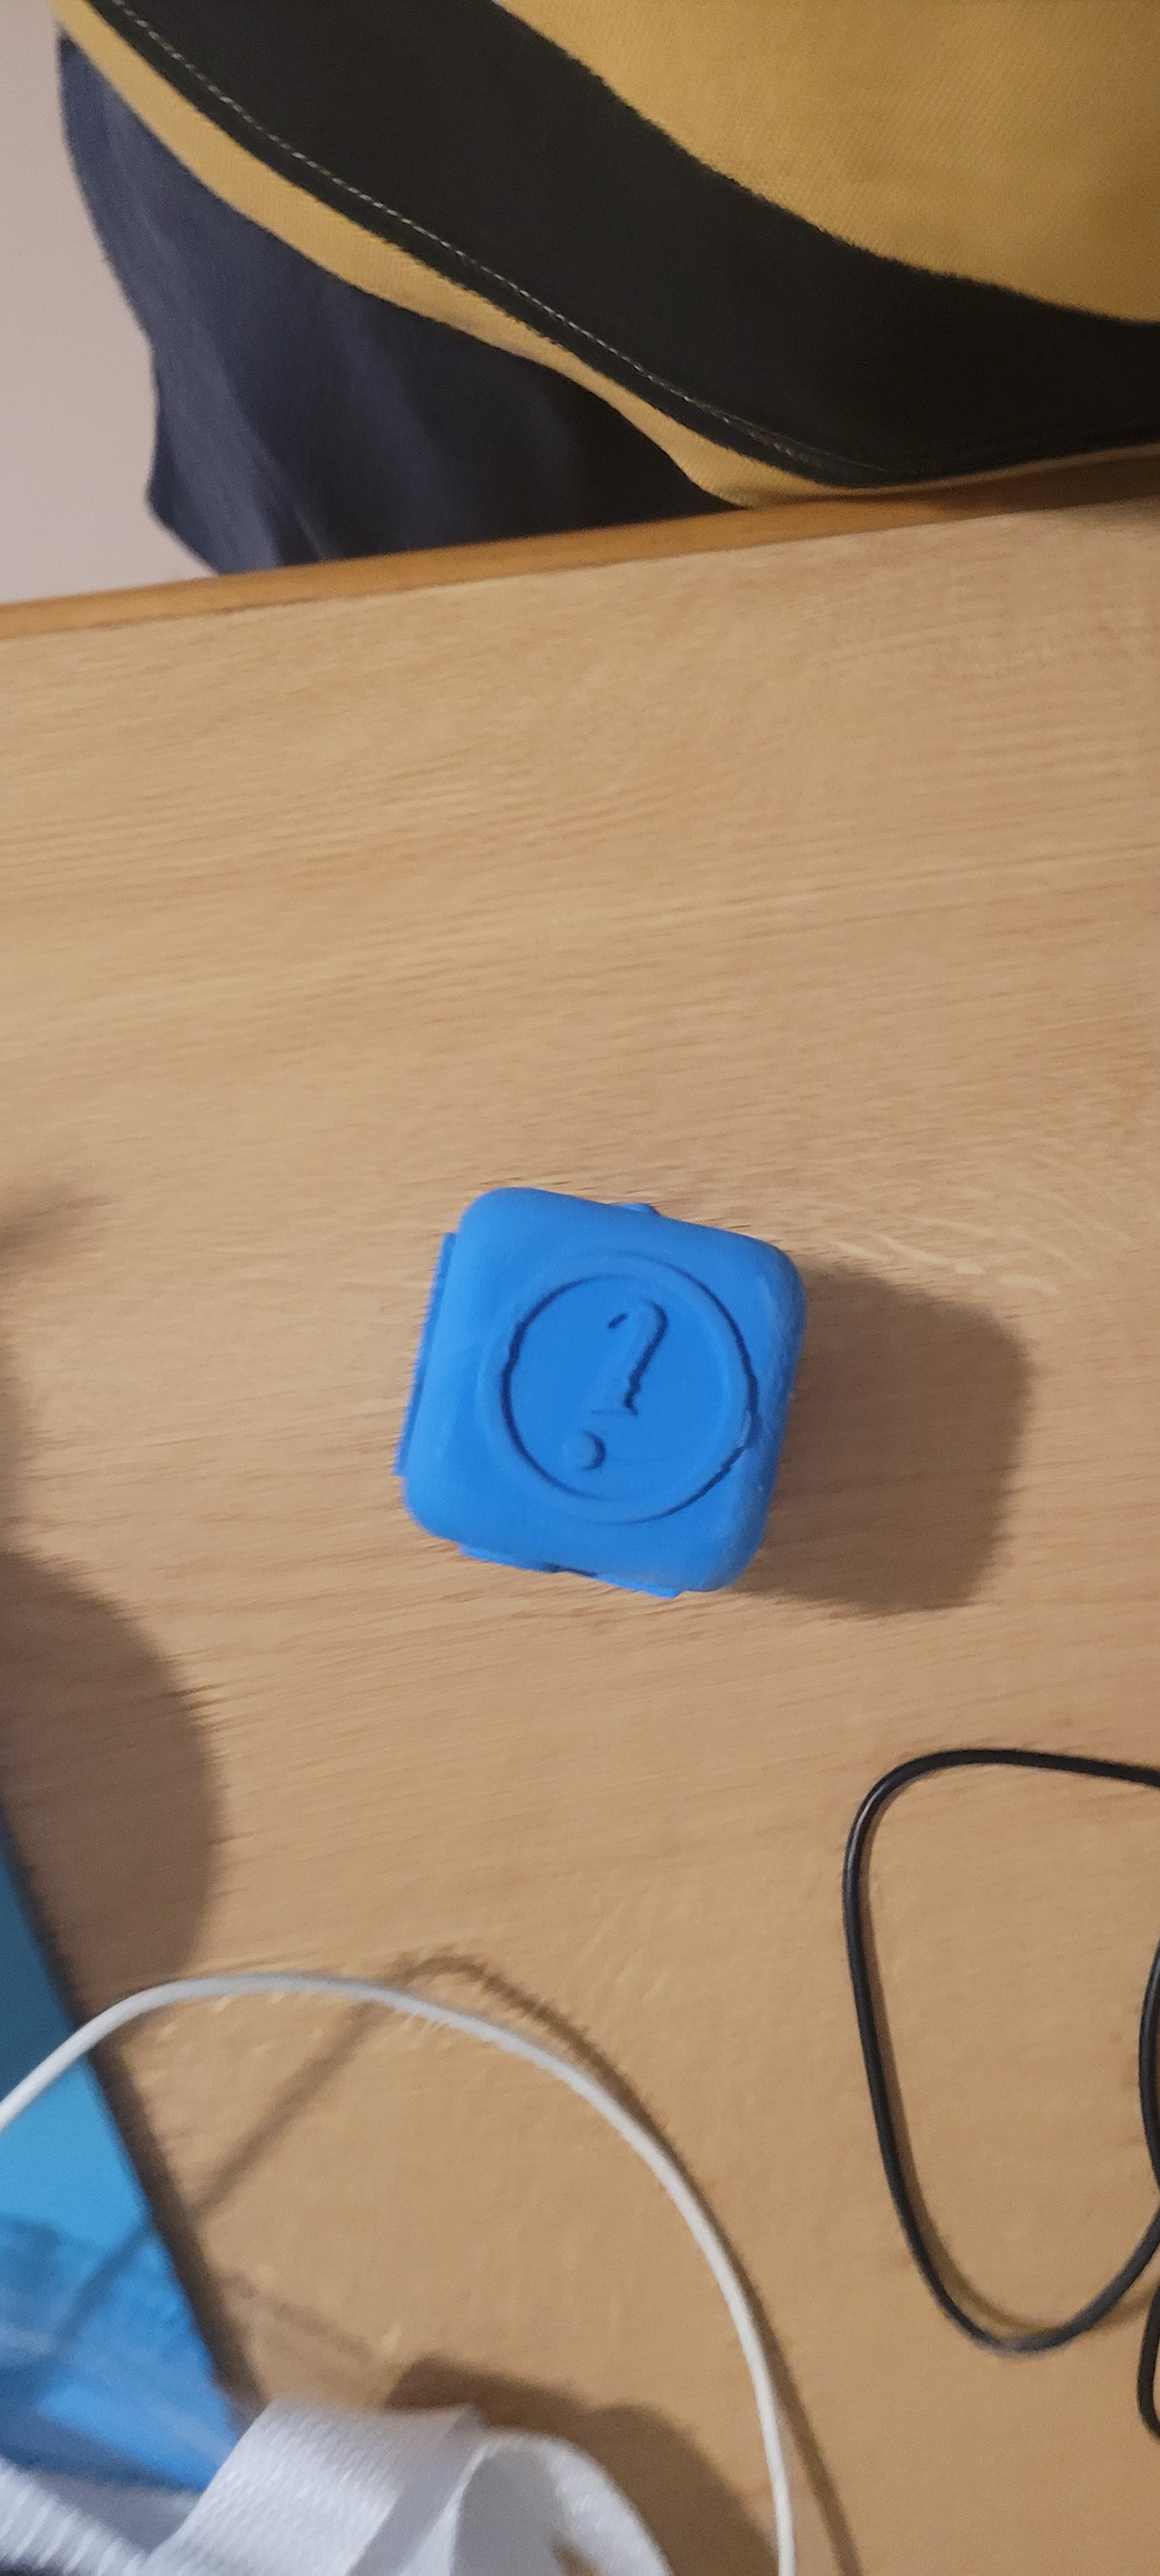Info: (496, 1235, 790, 1566)
